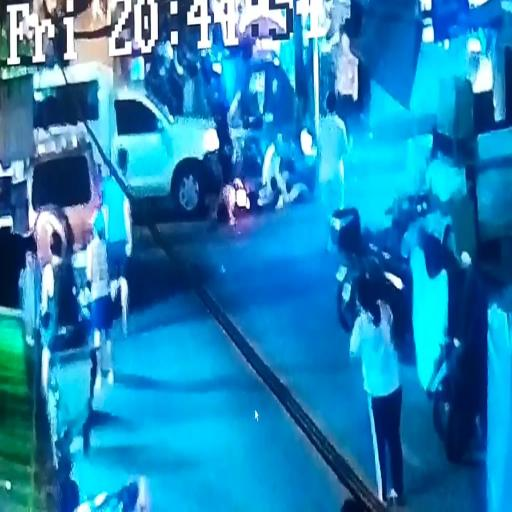Car: (0, 53, 230, 217), (19, 122, 134, 314)
Motor: (178, 70, 328, 226), (328, 178, 442, 346)
